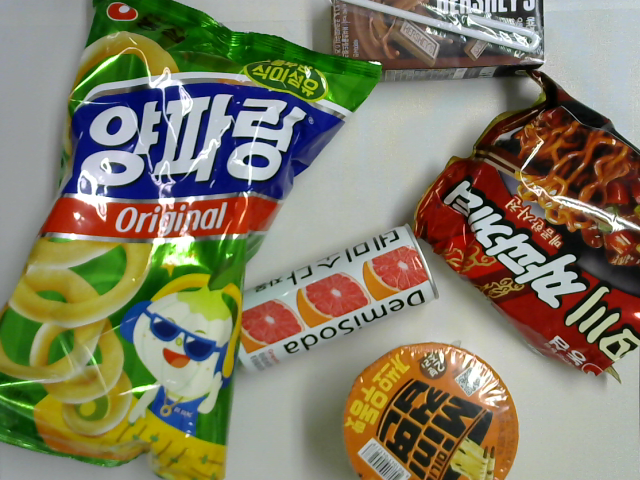Demisoda_Grapefruit_Can_250ml: (213, 220, 442, 381)
Hush_Choco_Drink: (329, 1, 547, 82)
Oninon_Ring: (1, 2, 384, 479)
Sichuan_Chapaghetti: (410, 66, 640, 382)
Udongmini: (340, 340, 519, 480)
